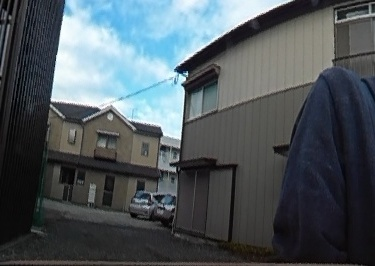person: (285, 28, 375, 266)
